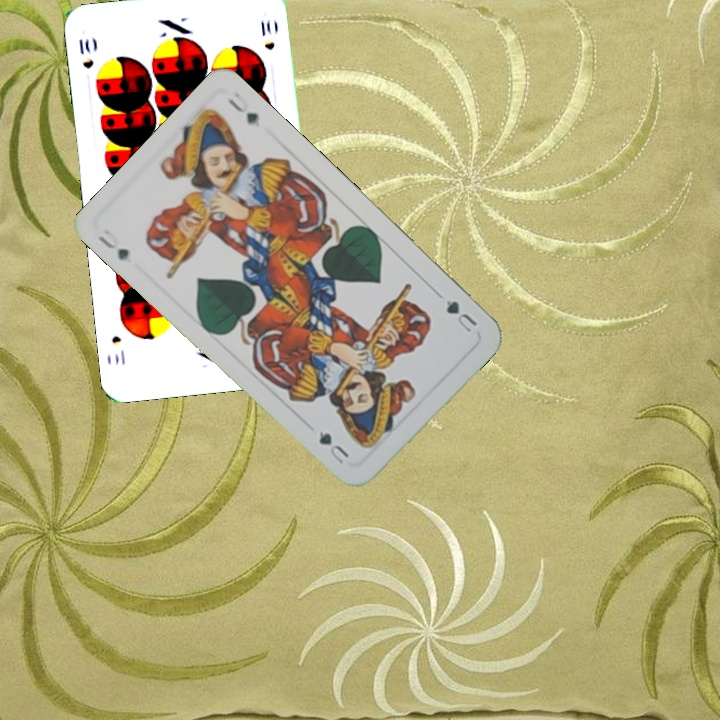GU: (442, 295, 480, 337), (94, 231, 132, 263)
S10: (75, 34, 96, 71)
